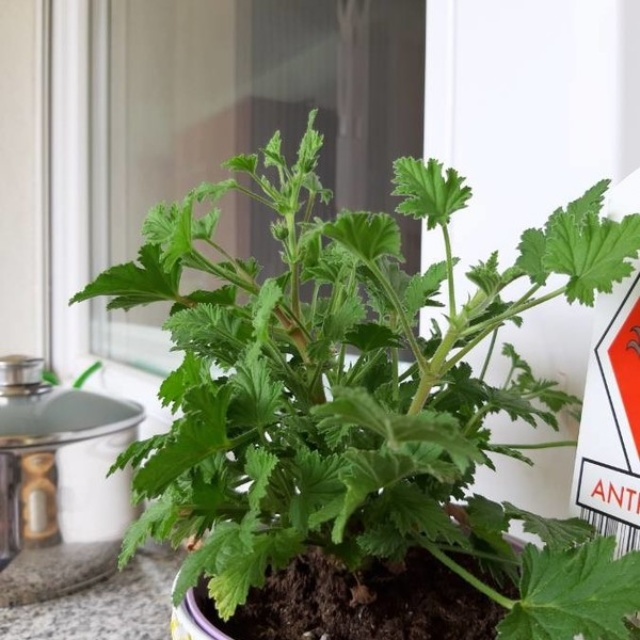obstacle: (98, 109, 617, 635)
